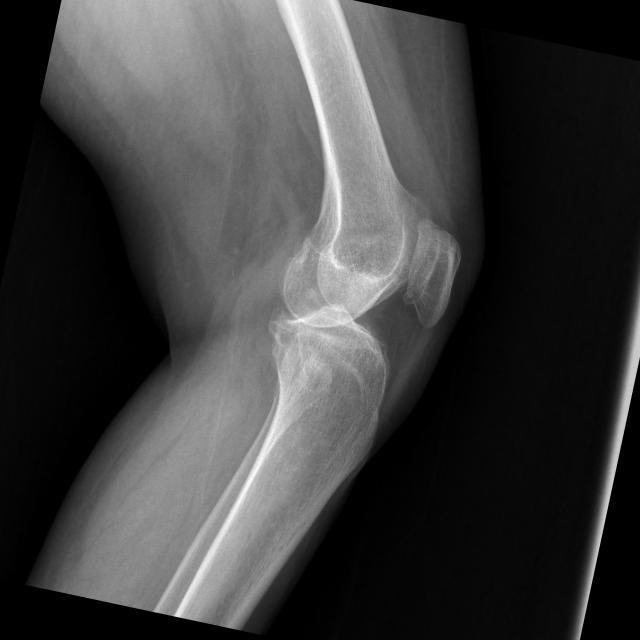Knee: (253, 162, 471, 418)
